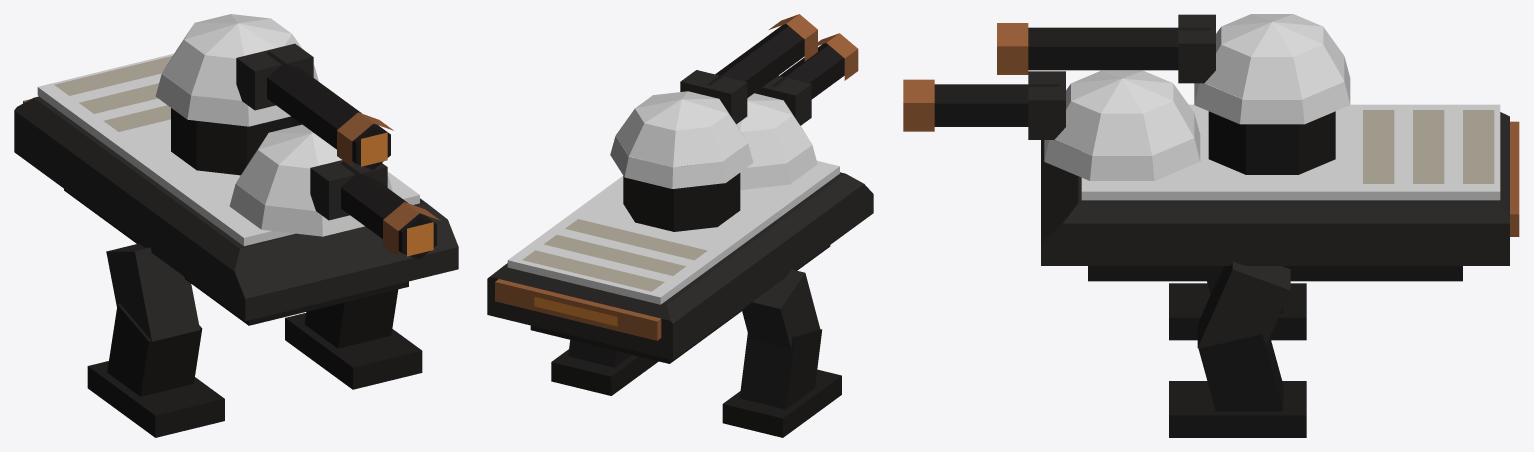
The model's file is lnd_t3_bot.7504efde.glb.
The picture shows the model from 3 angles, left to right: view 1: azimuth 30°, elevation 25°; view 2: azimuth 150°, elevation 25°; view 3: azimuth 270°, elevation 25°; orthographic projection. The views are drawn at different scales.
Visible parts, largest first — view 1: lod0; view 2: lod0; view 3: lod0.
Part boxes in pixels (<box>): lod0: <box>14,14,458,437</box>; lod0: <box>487,14,873,437</box>; lod0: <box>903,14,1519,437</box>.
Size of what is drawn, in the model's own units: 1.7 by 2.1 by 3.36.
